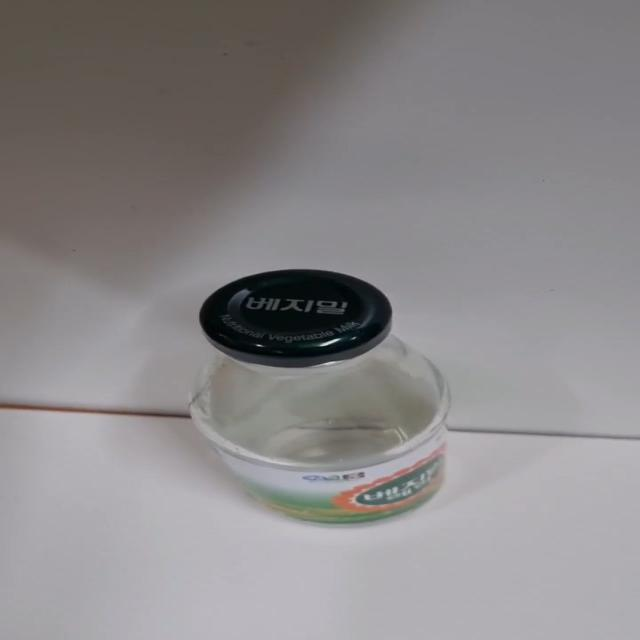Glass: (174, 272, 453, 524)
